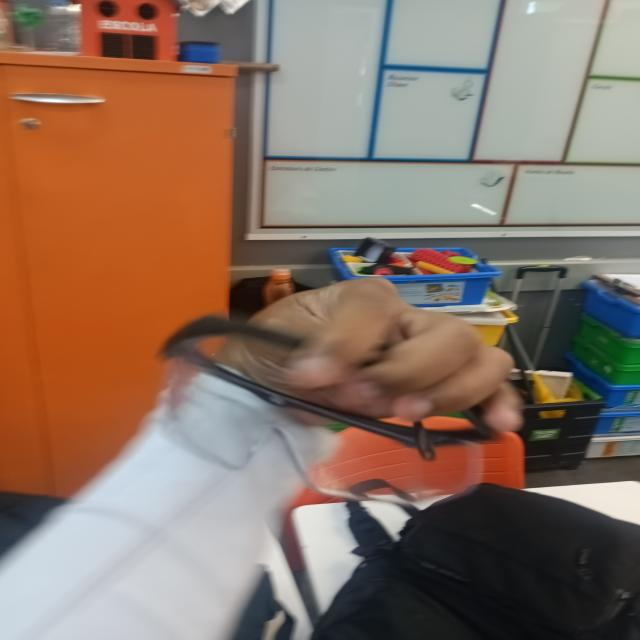oculos-epi: (163, 314, 498, 499)
